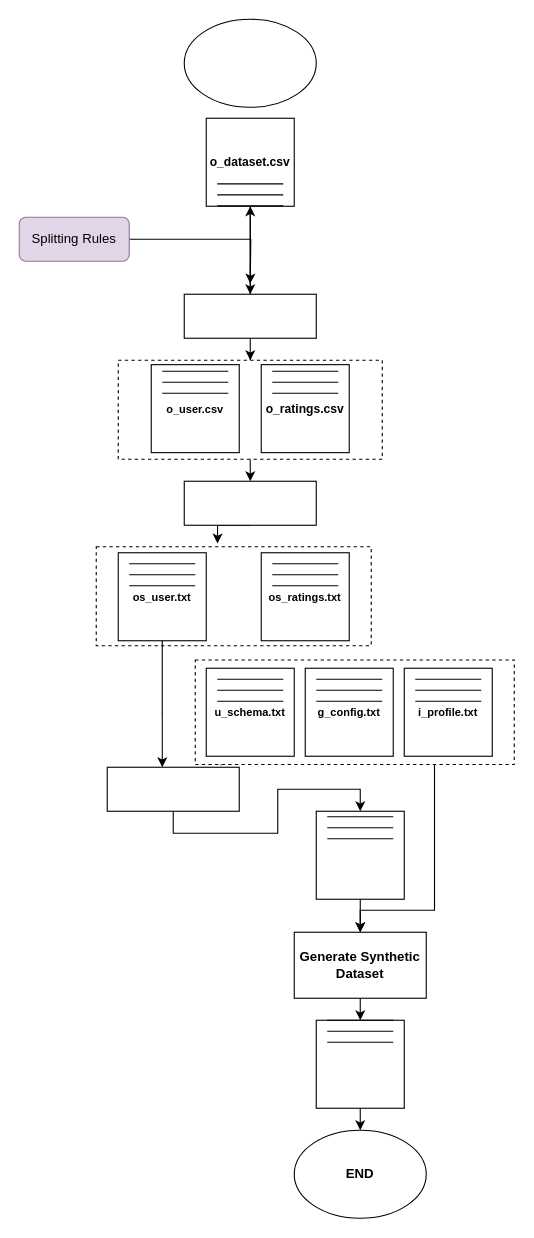
Image size: 534x1238. Some labels were removed from this diagram. The shapes that lost their labels are listed below. From the top down, each one's centre as x and y in pixels, then its label:
the point at 249,62: BEGIN
the point at 249,315: Split Original Dataset
the point at 249,502: Generate Statistics <From original dataset>
the point at 172,788: Generate Synthetic Users
the point at 359,854: user.csv
the point at 359,1063: ratings.csv
